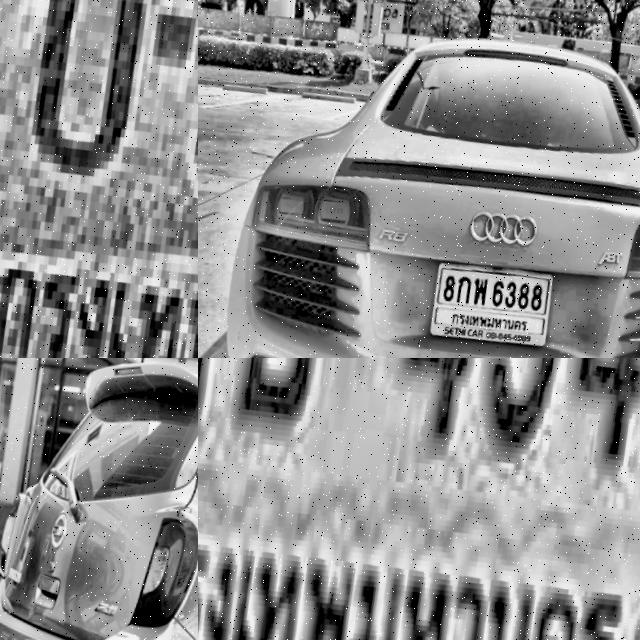license-plate: (198, 358, 640, 640), (0, 0, 198, 358), (413, 250, 554, 358)
